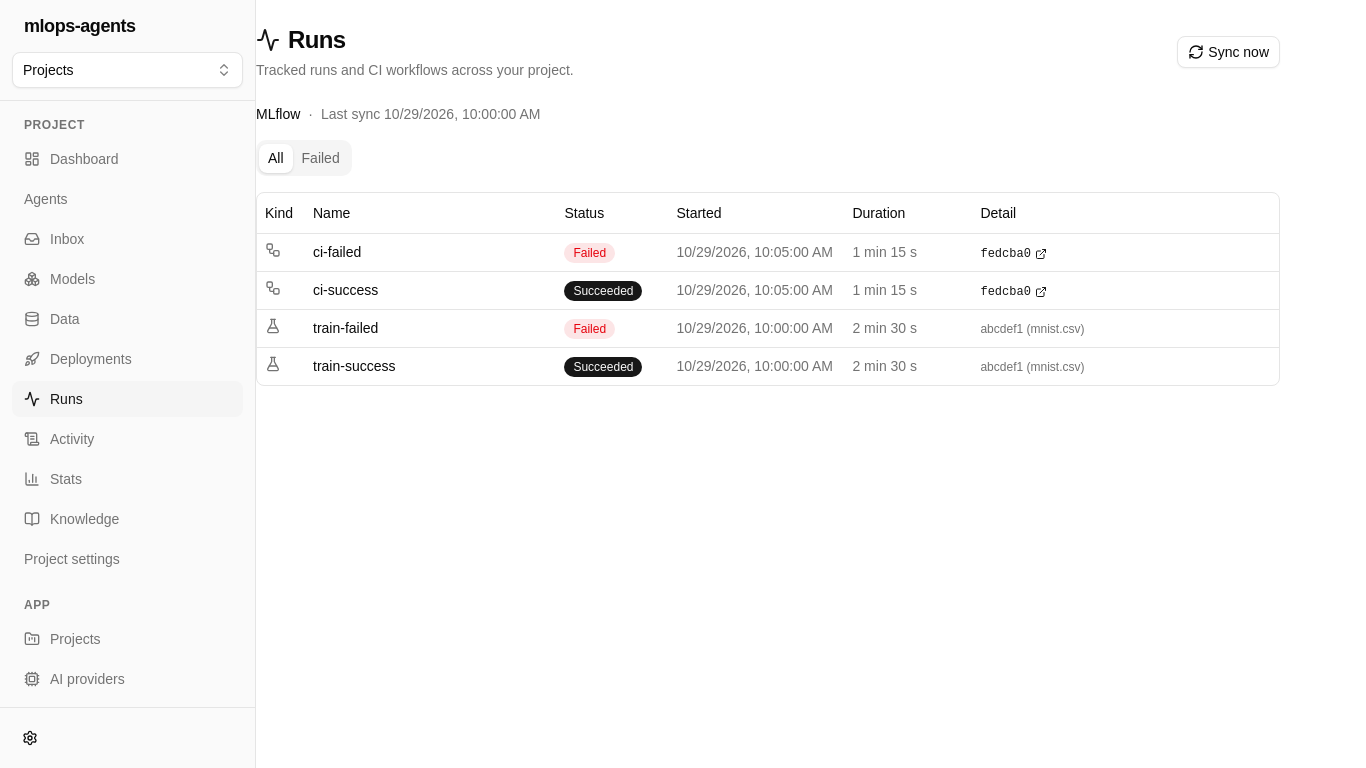
Test: RunsPage › filters to only failed rows of both kinds when the Failed tab is selected
Expected: the text "train-success" is shown, [305, 347, 556, 384]
Expected: the text "train-failed" is shown, [305, 309, 556, 347]
Note: Click "Failed" tab
Click the tab "Failed" at coordinates (321, 158), box [293, 144, 349, 172]
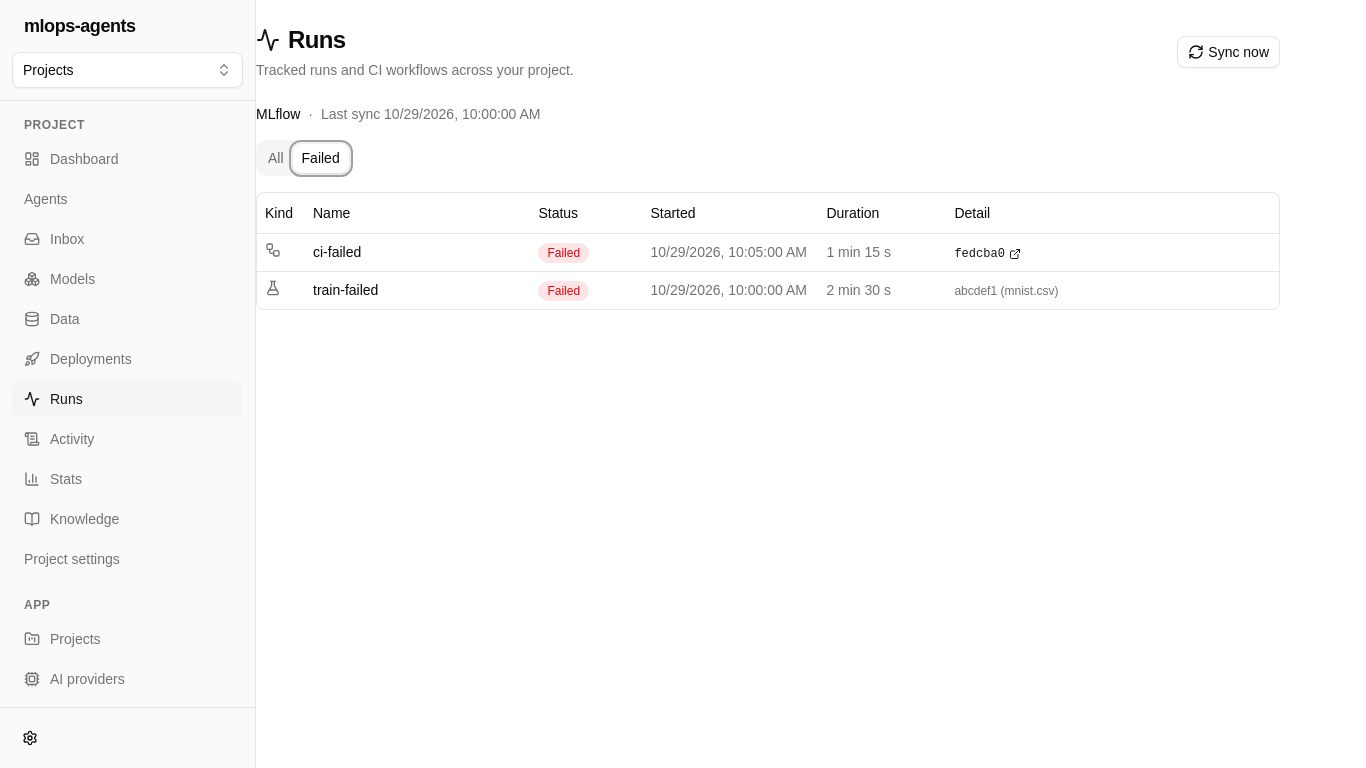
Expected: the text "train-failed" is shown, [305, 271, 530, 308]
Expected: the text "train-success" is gone
Expected: the text "ci-success" is gone
Note: Switch back to "All"
Click the tab "All" at coordinates (276, 158), box [259, 144, 293, 172]
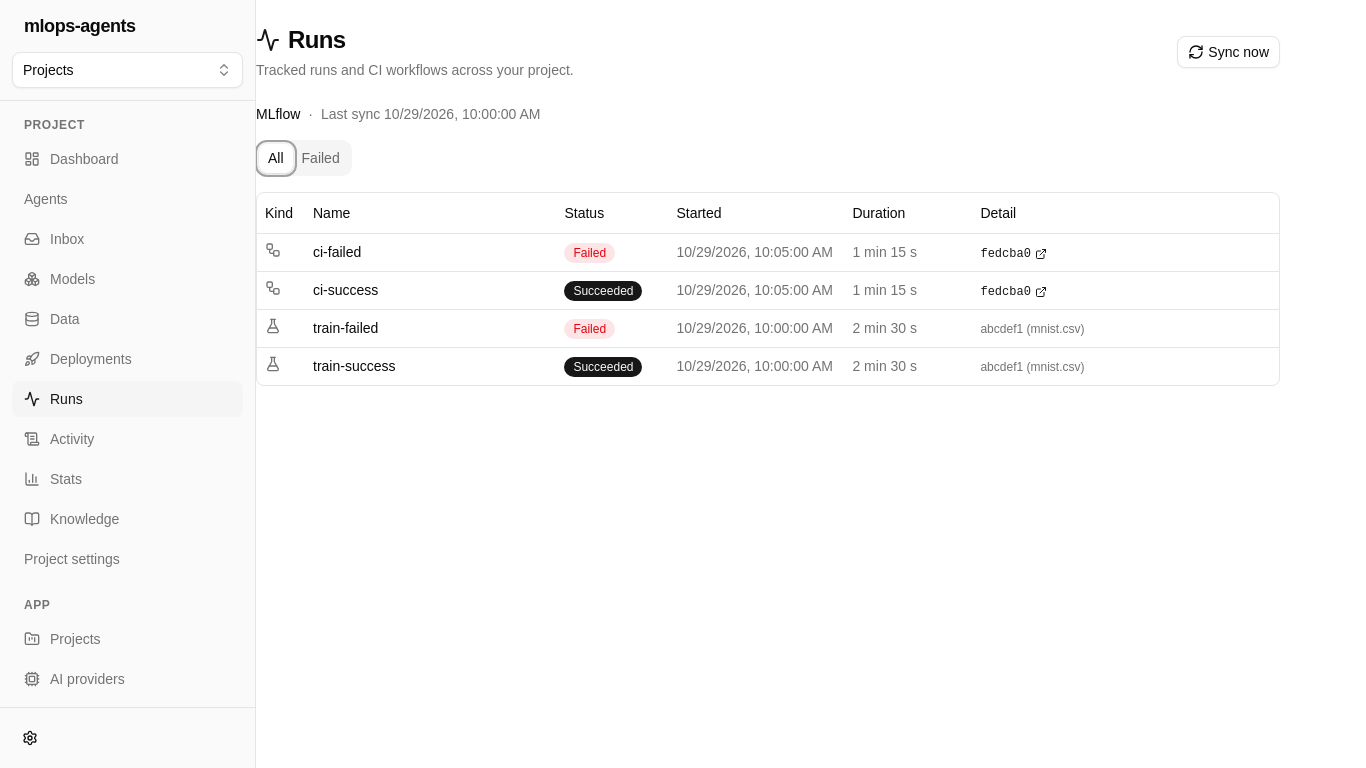
Expected: the text "train-success" is shown, [305, 347, 556, 384]
